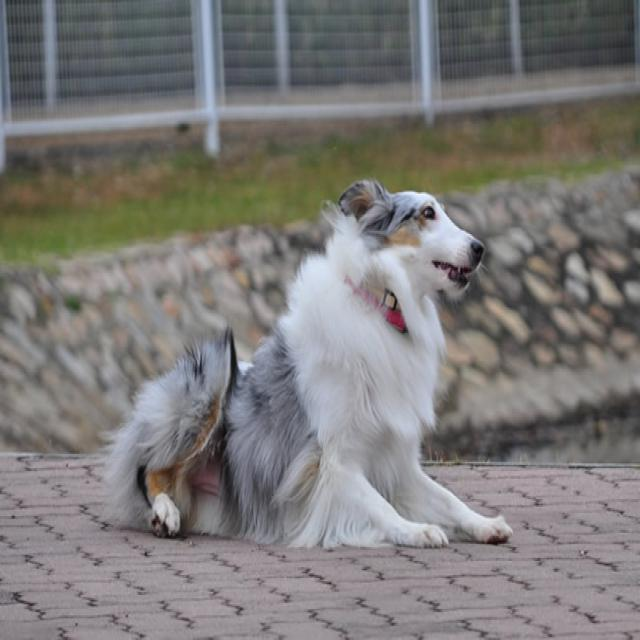laying down: (102, 175, 516, 554)
